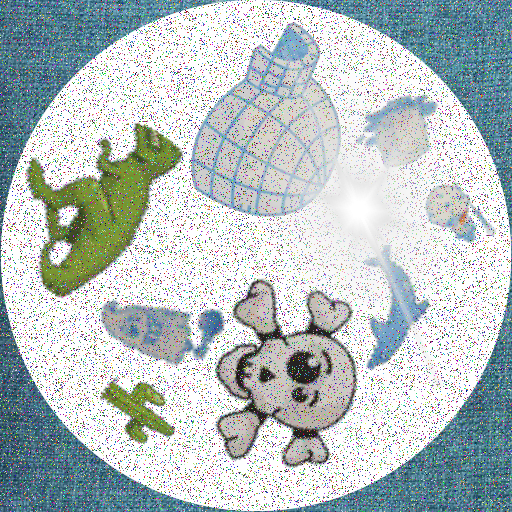cactus_icon: (95, 364, 183, 452)
cube_icon: (354, 87, 451, 184)
dino_icon: (13, 119, 206, 312)
dolphin_icon: (326, 245, 453, 372)
ghost_icon: (96, 263, 225, 392)
igloo_icon: (167, 15, 373, 221)
skull_icon: (181, 274, 396, 489)
snowman_icon: (424, 175, 501, 252)
